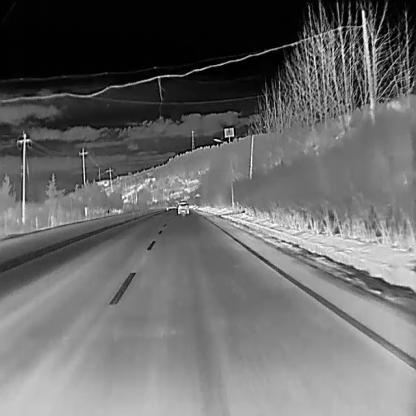car: (177, 199, 189, 214)
